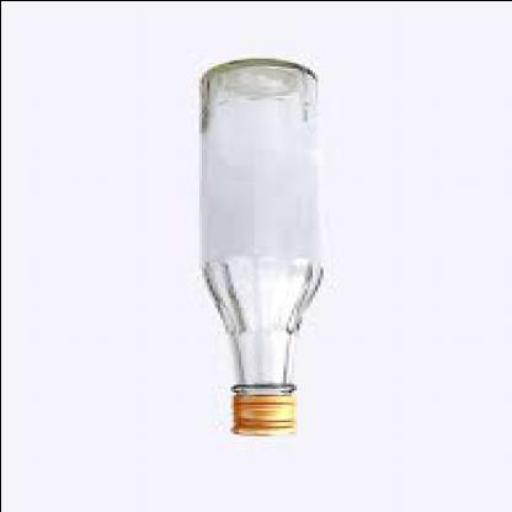glass: (193, 60, 317, 397)
metal: (229, 397, 290, 437)
